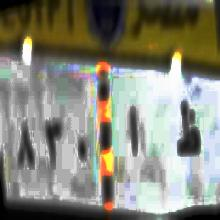0: (76, 134, 88, 170)
3: (44, 116, 65, 177)
8: (17, 120, 35, 178)
Thaa: (176, 96, 205, 160)
alif: (127, 96, 139, 162)
